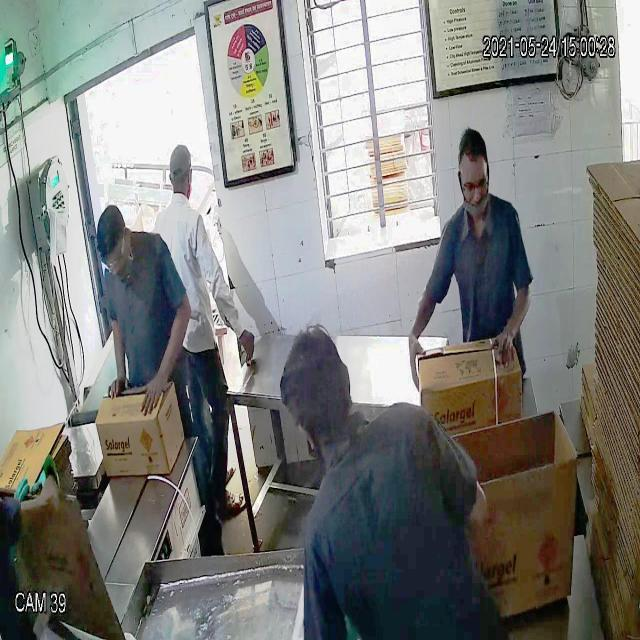glasses: (98, 226, 126, 272)
